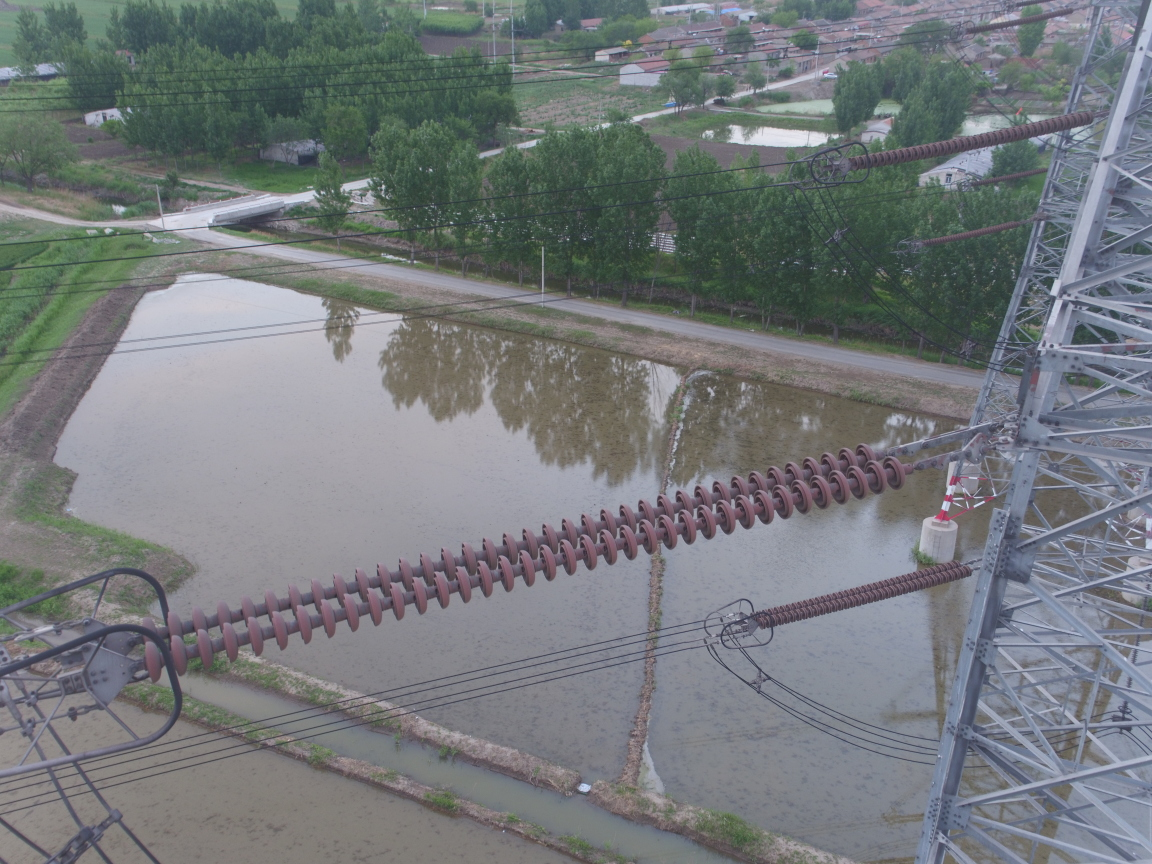insulator: (117, 437, 949, 692), (845, 104, 1105, 174), (752, 555, 974, 633)
